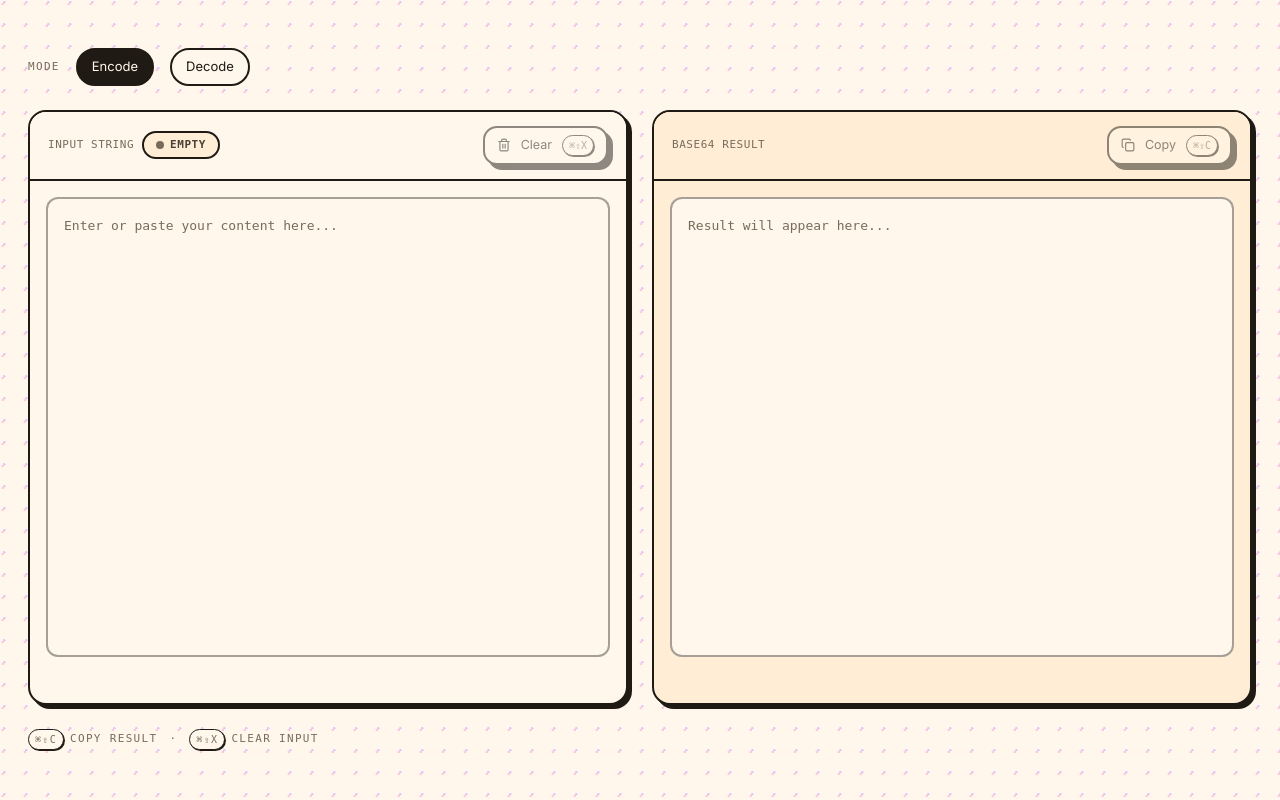
Test: Base64EncoderRoute › decodes valid Base64 in decode mode
Click the button "Decode" at [210, 67], box [170,48,250,86]
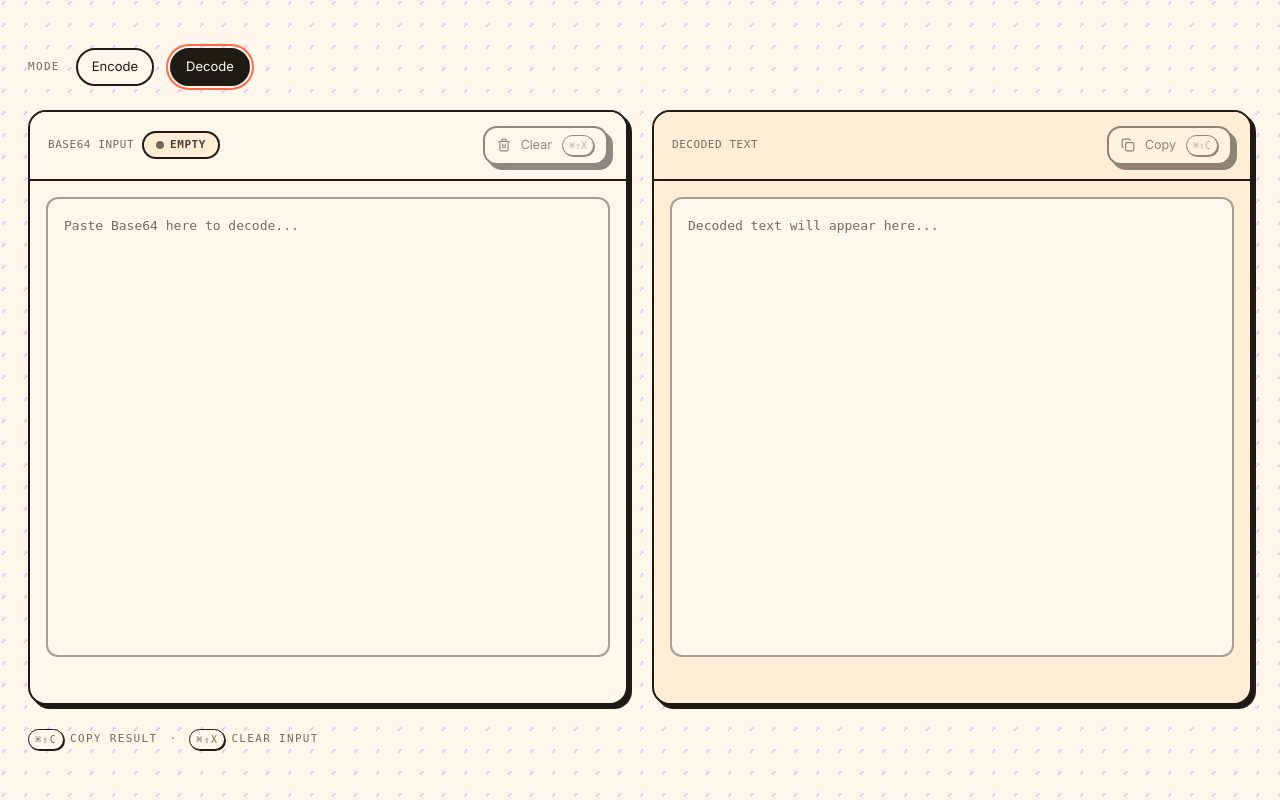
Type "SGVsbG8=" into the text box with id "base64-input" at [328, 426], box [46,196,610,656]
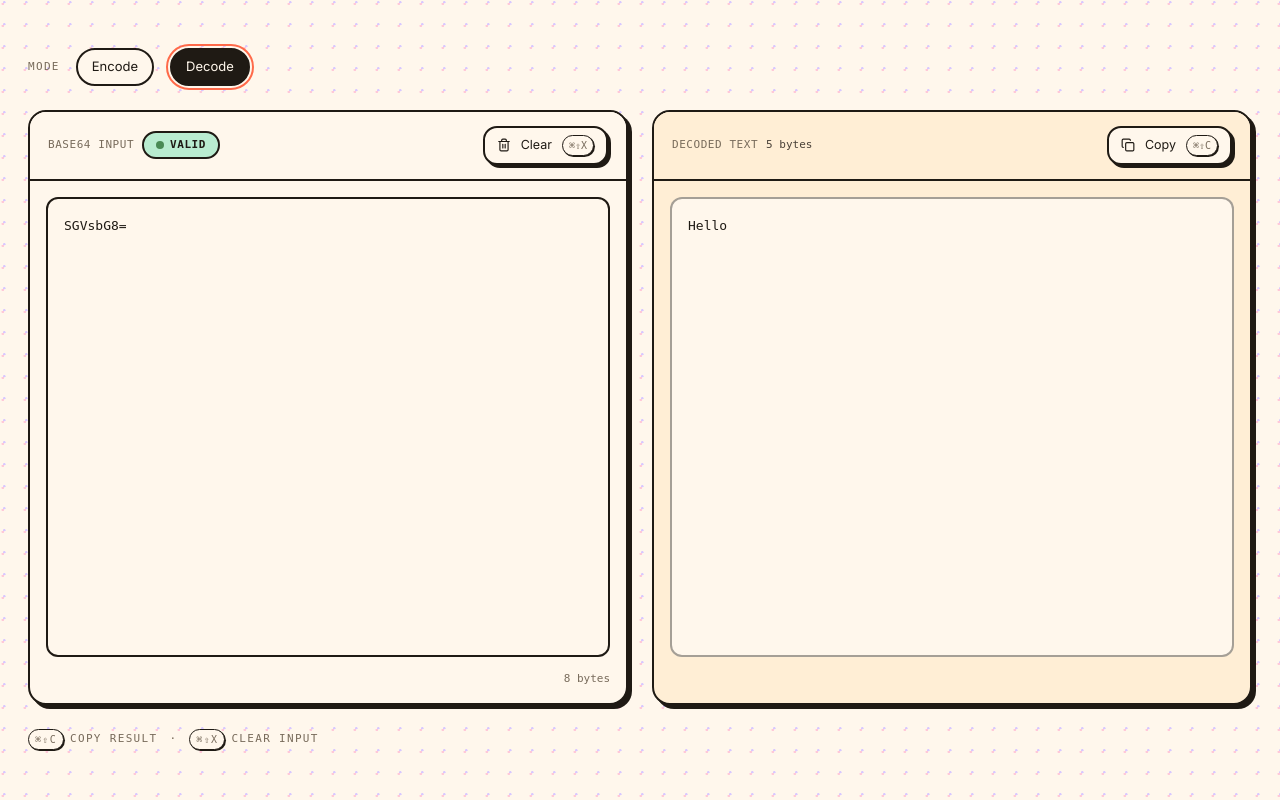
Expected: the text box with id "base64-output" holds "Hello", [670,196,1234,656]
